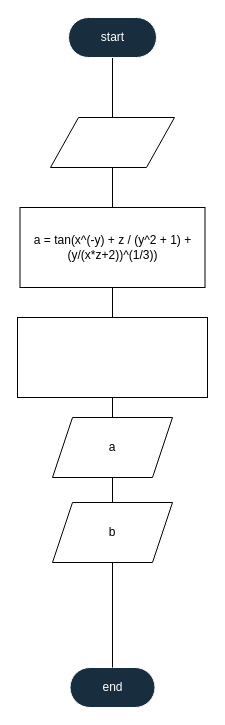
Some shapes in this 225 by 725 pixel diagram are drawn without their labels. The shapes that lost their labels are listed below. From the top down, each one's centre as x and y in pixels, then its label:
At (112,142): "x, y, z є R".
At (112,357): "b = a / sin((x + PI*y)/z)".
